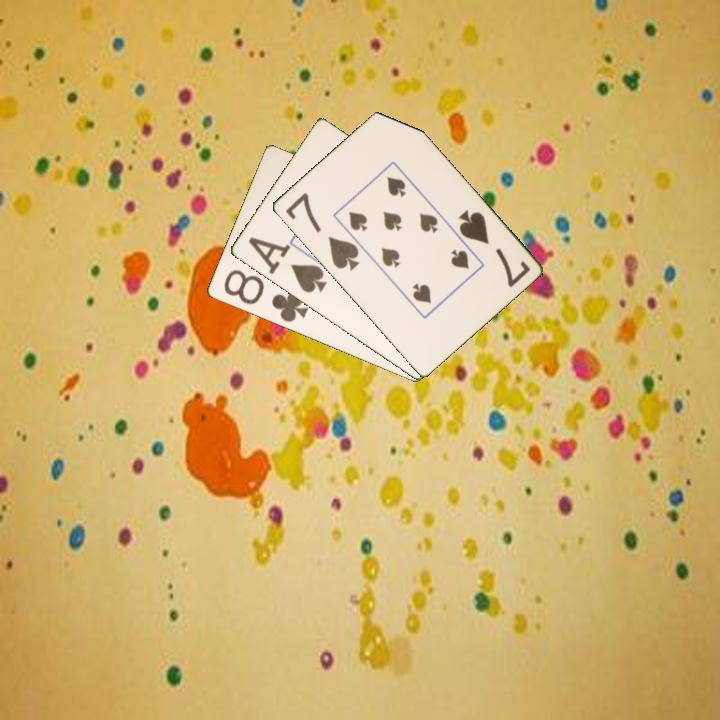7s: (281, 189, 362, 274), (454, 206, 533, 290)
8c: (220, 266, 311, 325)
As: (252, 240, 329, 296)
